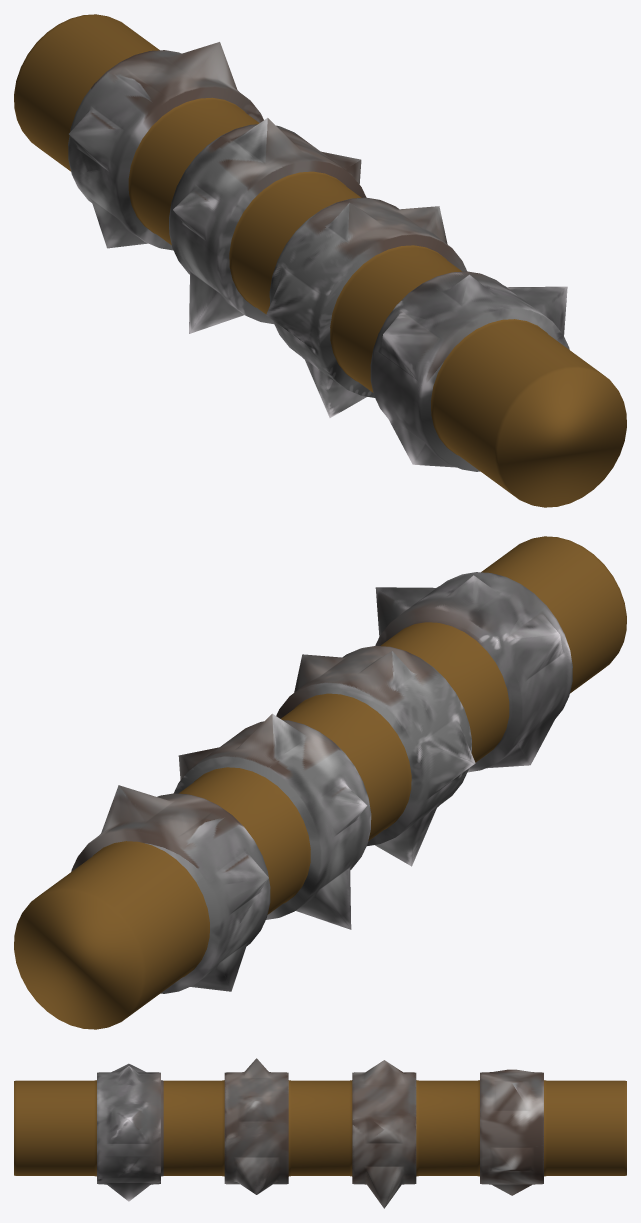
File: SpikedLog.fbx
3 renders of one model, top to bottom at view 1: azimuth 30°, elevation 25°; view 2: azimuth 150°, elevation 25°; view 3: azimuth 270°, elevation 25°, orthographic. The views are drawn at different scales.
Parts seen in each view (by area): view 1: Cylinder; view 2: Cylinder; view 3: Cylinder.
Part boxes in pixels (box(x1,y1,x2,y2)): Cylinder: box(14, 14, 626, 507); Cylinder: box(14, 536, 626, 1029); Cylinder: box(14, 1058, 626, 1208).
Bounding box in the file's own units: 159 × 159 × 640.
2 materials, 1 textured.
